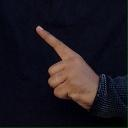hand: (35, 24, 99, 110)
